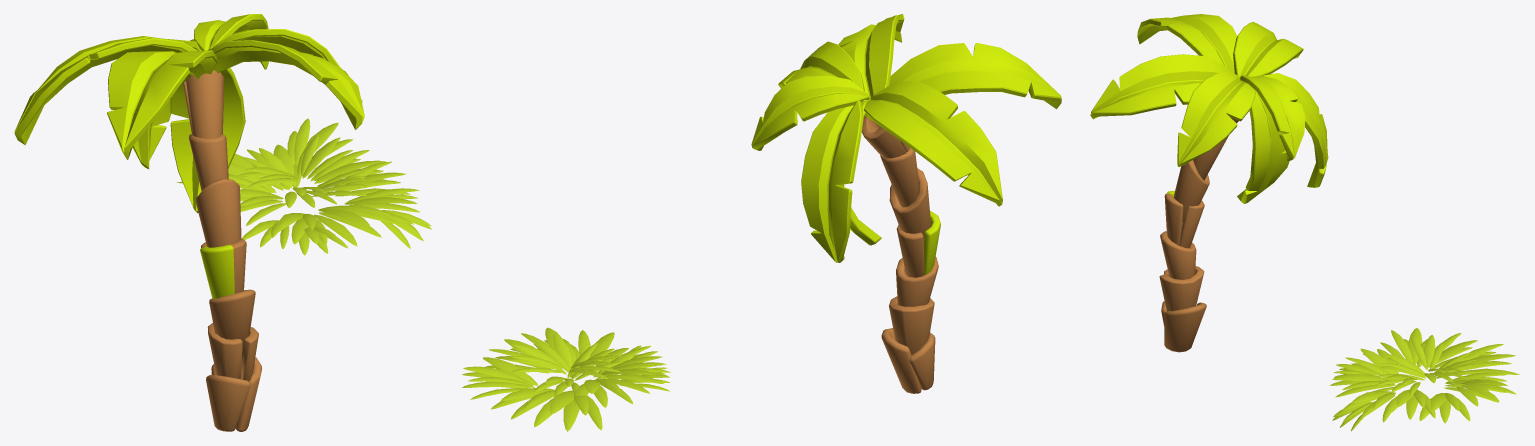
The model's file is beachTree_textures_Fixed.fbx.
The picture shows the model from 3 angles, left to right: view 1: azimuth 30°, elevation 25°; view 2: azimuth 150°, elevation 25°; view 3: azimuth 270°, elevation 25°; orthographic projection. The views are drawn at different scales.
Visible parts, largest first — view 1: Palmera, arbusto; view 2: Palmera, arbusto; view 3: Palmera, arbusto.
Boxes of the visible parts, box(x1,y1,x2,y2) form: Palmera: box(14, 14, 364, 431); arbusto: box(176, 118, 431, 255); Palmera: box(751, 14, 1061, 393); arbusto: box(462, 327, 670, 431); Palmera: box(1090, 14, 1328, 352); arbusto: box(1329, 328, 1519, 431).
Size of the model in its own units: 463 by 361 by 460.
